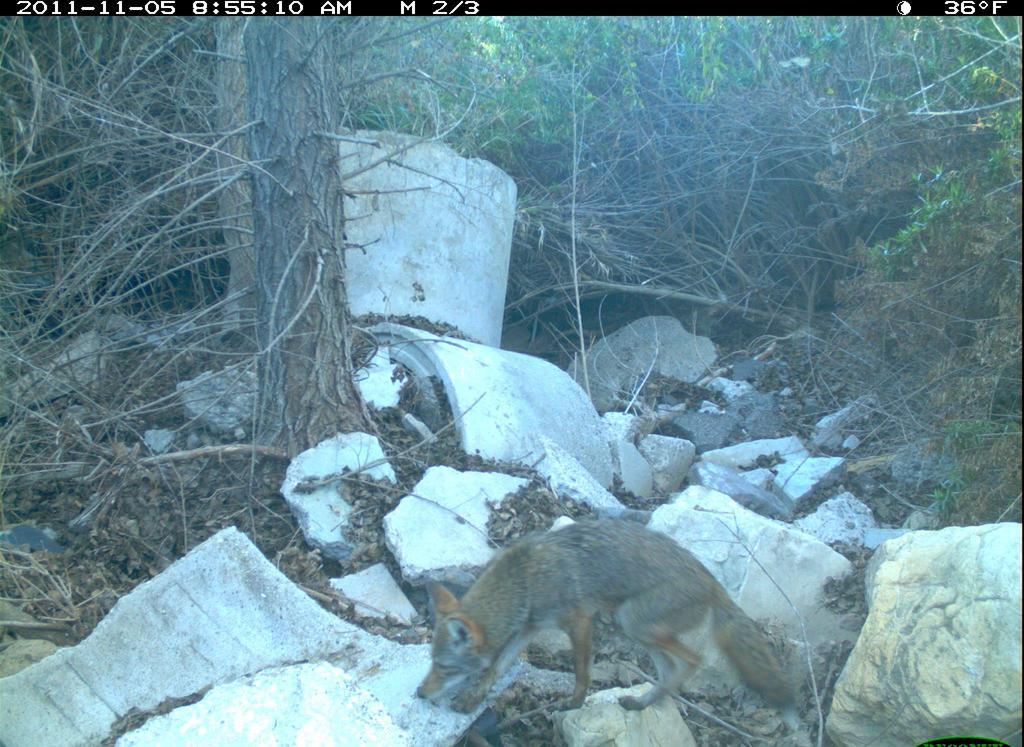coyote: (390, 510, 817, 738)
